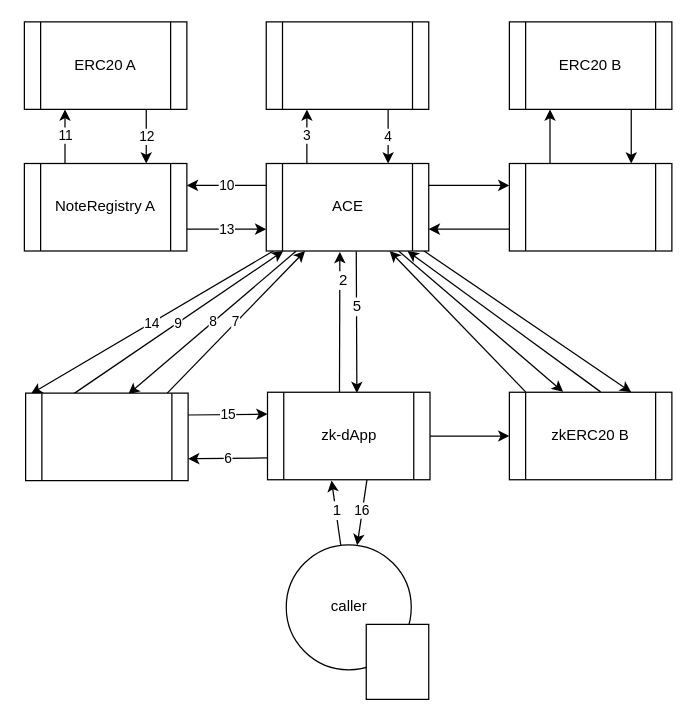
Image size: 694x721. Some labels were removed from this diagram. Here are the shapes that lost their labels. From the top down, the centre of each, then its label:
At (x=347, y=65): "Validator Contract".
At (x=590, y=206): "NoteRegistry B".
At (x=106, y=436): "zkERC20 A".
At (x=397, y=661): "proof data".
